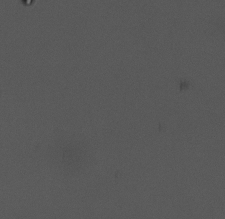Dead Cell: (20, 1, 34, 6)
